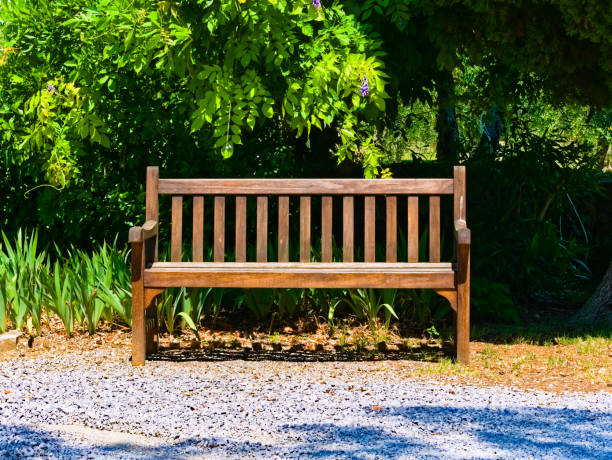bench: (117, 160, 478, 370)
